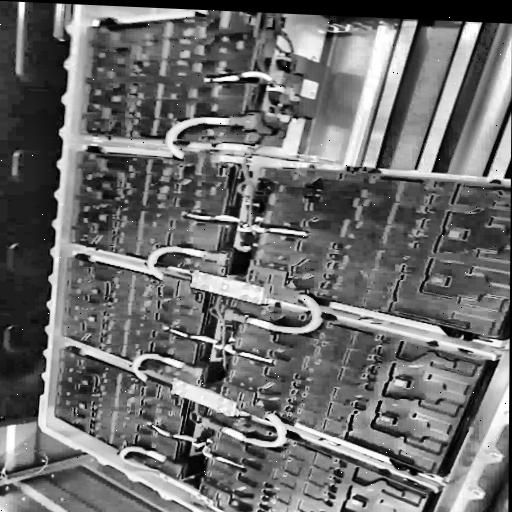high_volt_cable: (240, 289, 328, 337), (166, 113, 245, 161), (202, 407, 288, 448), (145, 245, 217, 282), (129, 348, 197, 385), (119, 444, 166, 472), (208, 505, 270, 512)
low_volt_cable: (173, 12, 308, 478)
